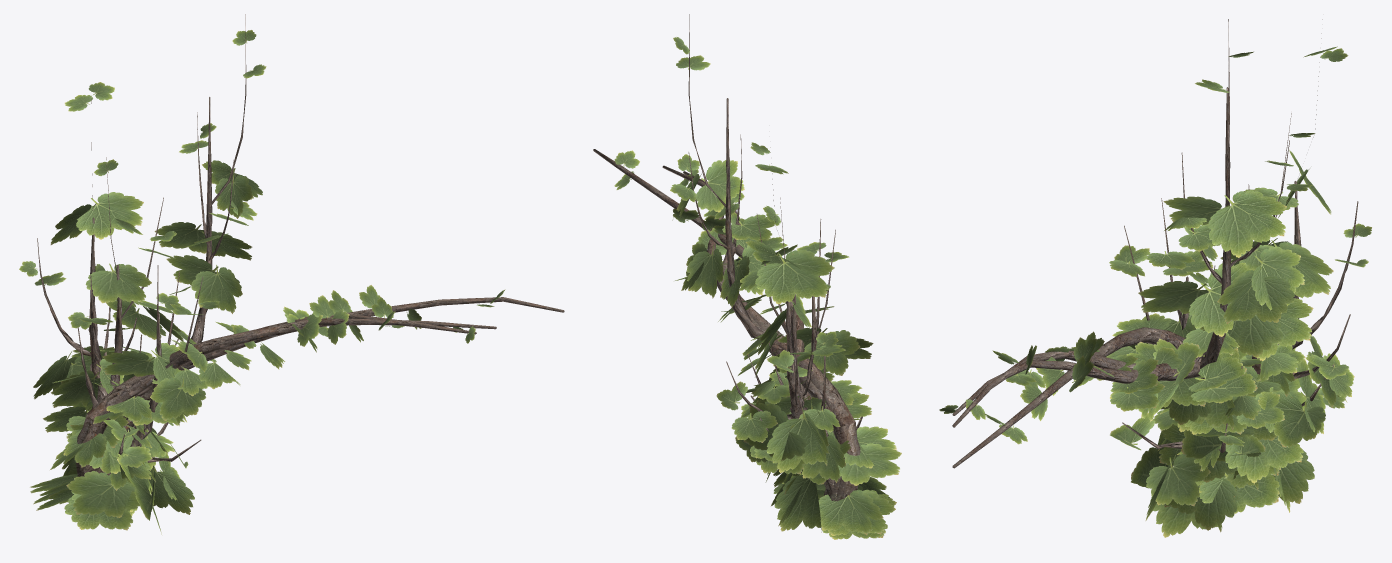
File: Climbing07.fbx
3 views of the same model, side by side, from view 1: azimuth 30°, elevation 25°; view 2: azimuth 150°, elevation 25°; view 3: azimuth 270°, elevation 25° (orthographic). The views are drawn at different scales.
Parts seen in each view (by area): view 1: climbing07; view 2: climbing07; view 3: climbing07.
Part boxes in pixels (left/top/right/bottom): climbing07: left=19, top=14, right=564, bottom=534; climbing07: left=593, top=14, right=901, bottom=539; climbing07: left=939, top=19, right=1371, bottom=537.
Bounding box in the file's own units: 900 × 991 × 679.
